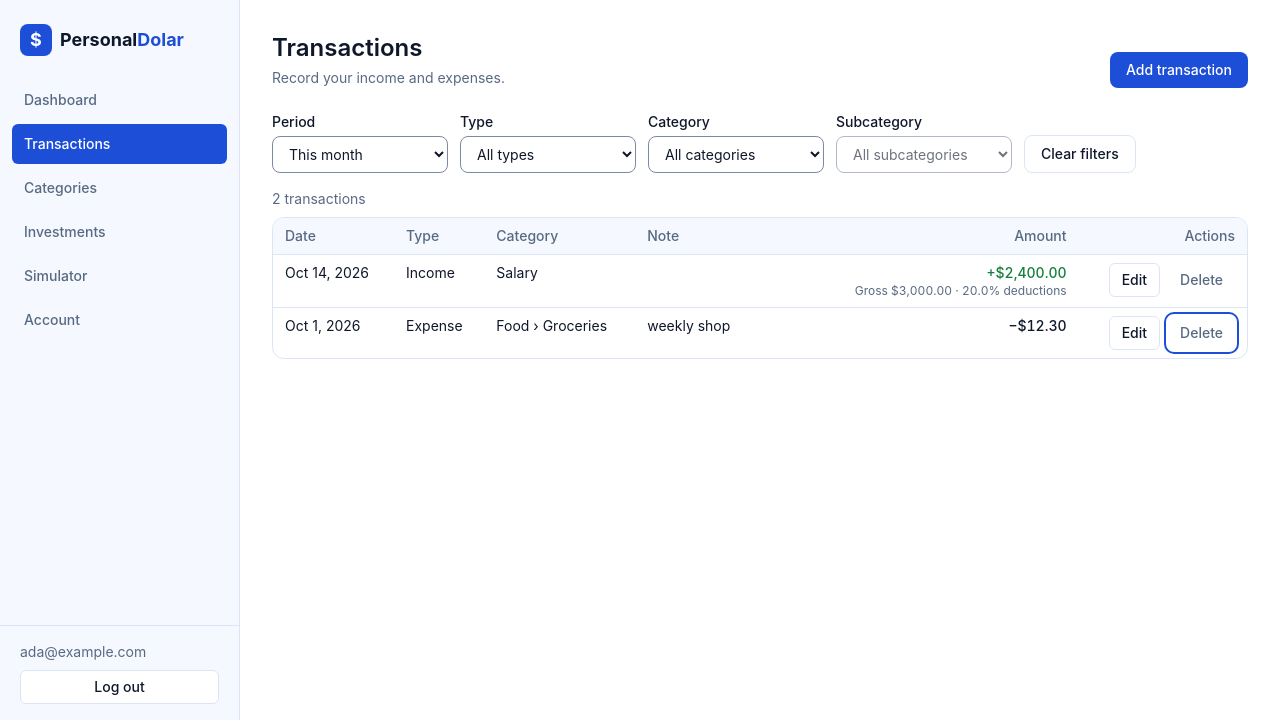
Delete transaction › deletes on confirm, refetches and shows "Transaction deleted."
The width and height of the screenshot is (1280, 720).
Expected: the table named "Transactions" is shown, [273, 218, 1247, 358]
Expected: the text "2 transactions" is shown, [272, 190, 366, 207]
Click the button with aria-label "Delete Food › Groceries, Oct 1, 2026, −$12.30": (1202, 333) [1168, 316, 1235, 350]
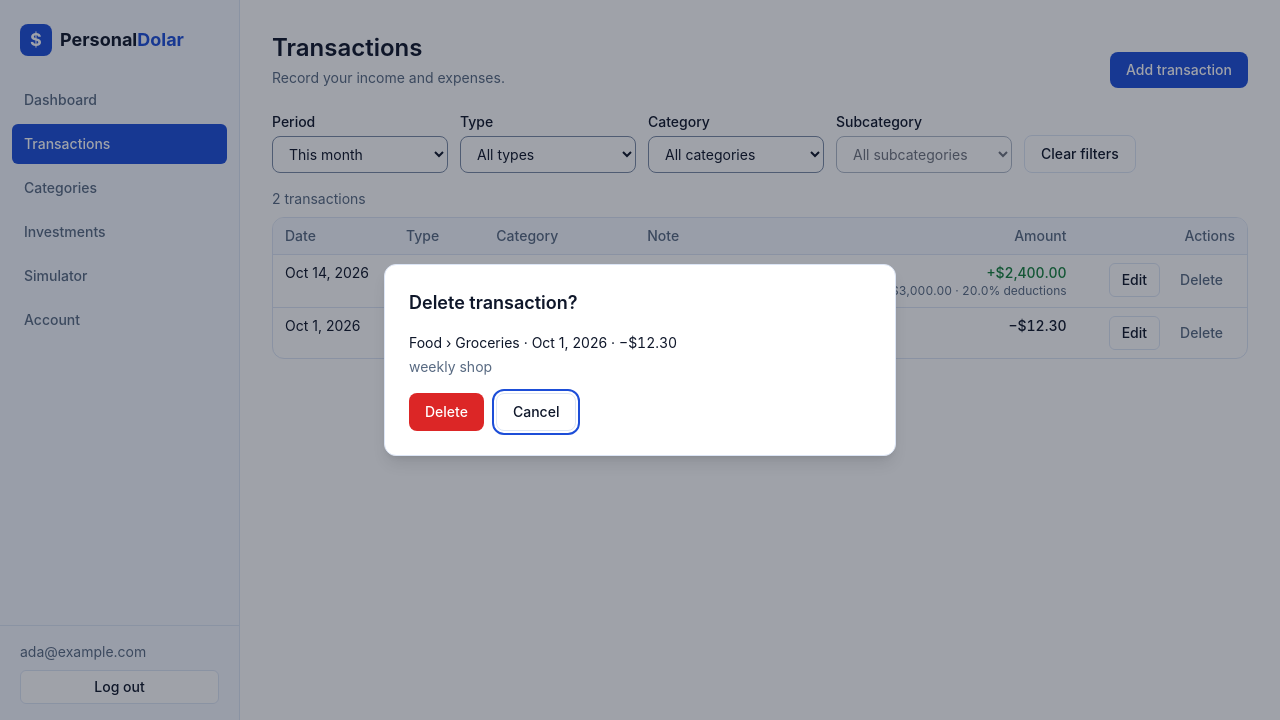
Click the button "Delete": (446, 412) [409, 393, 484, 431]
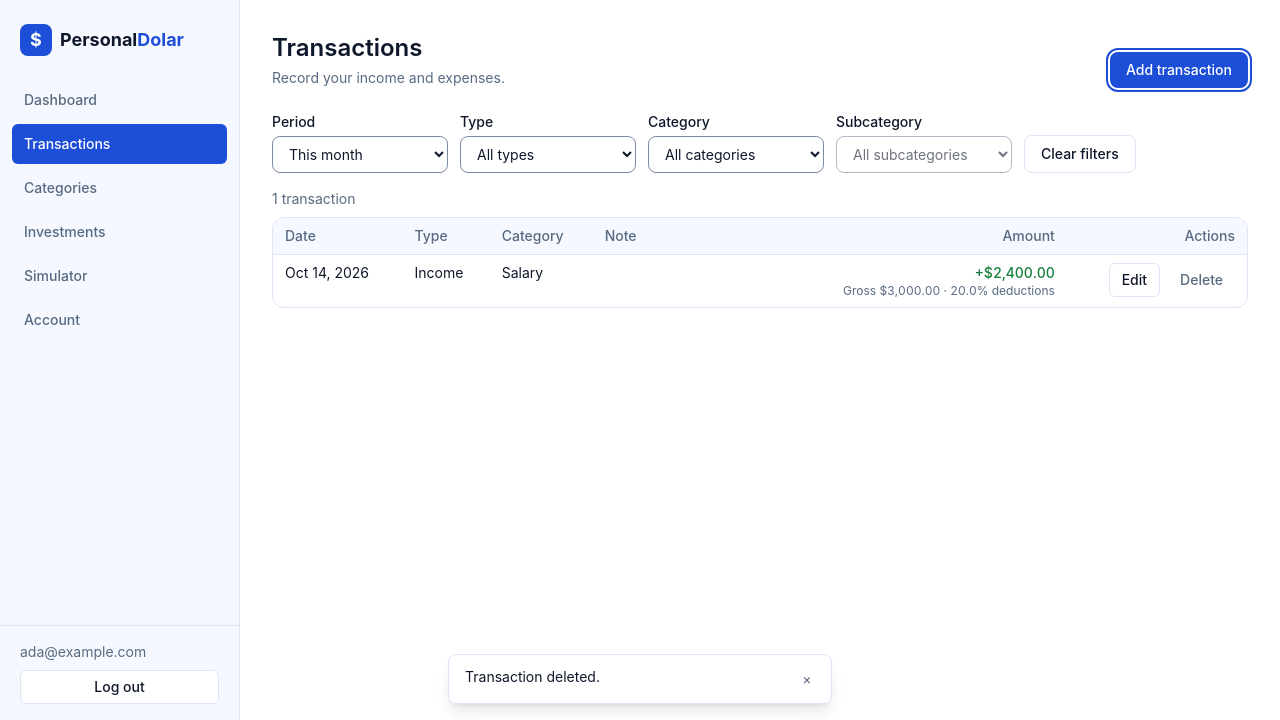
Expected: the dialog is gone
Expected: the text "1 transaction" is shown, [272, 190, 356, 207]
